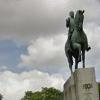Statue: (57, 4, 92, 73)
